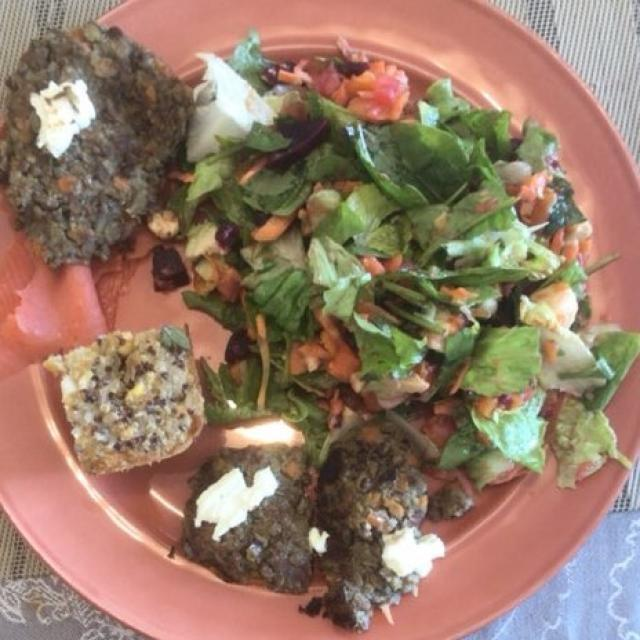quinoa: (42, 320, 215, 483)
salad: (196, 59, 554, 411)
salmon: (2, 234, 149, 367)
spinach: (327, 80, 516, 223)
